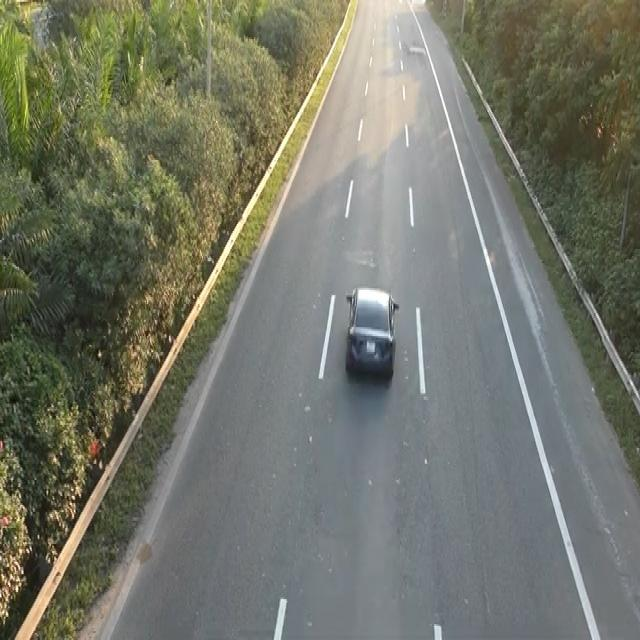bus: (342, 281, 400, 380)
